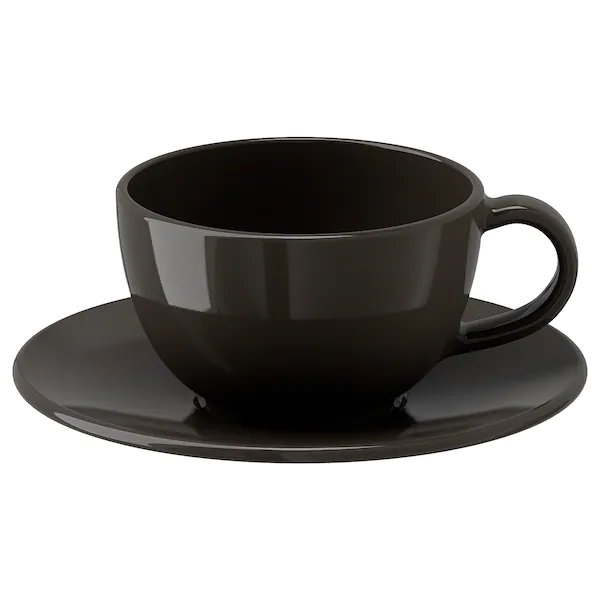cup: (113, 134, 582, 425)
